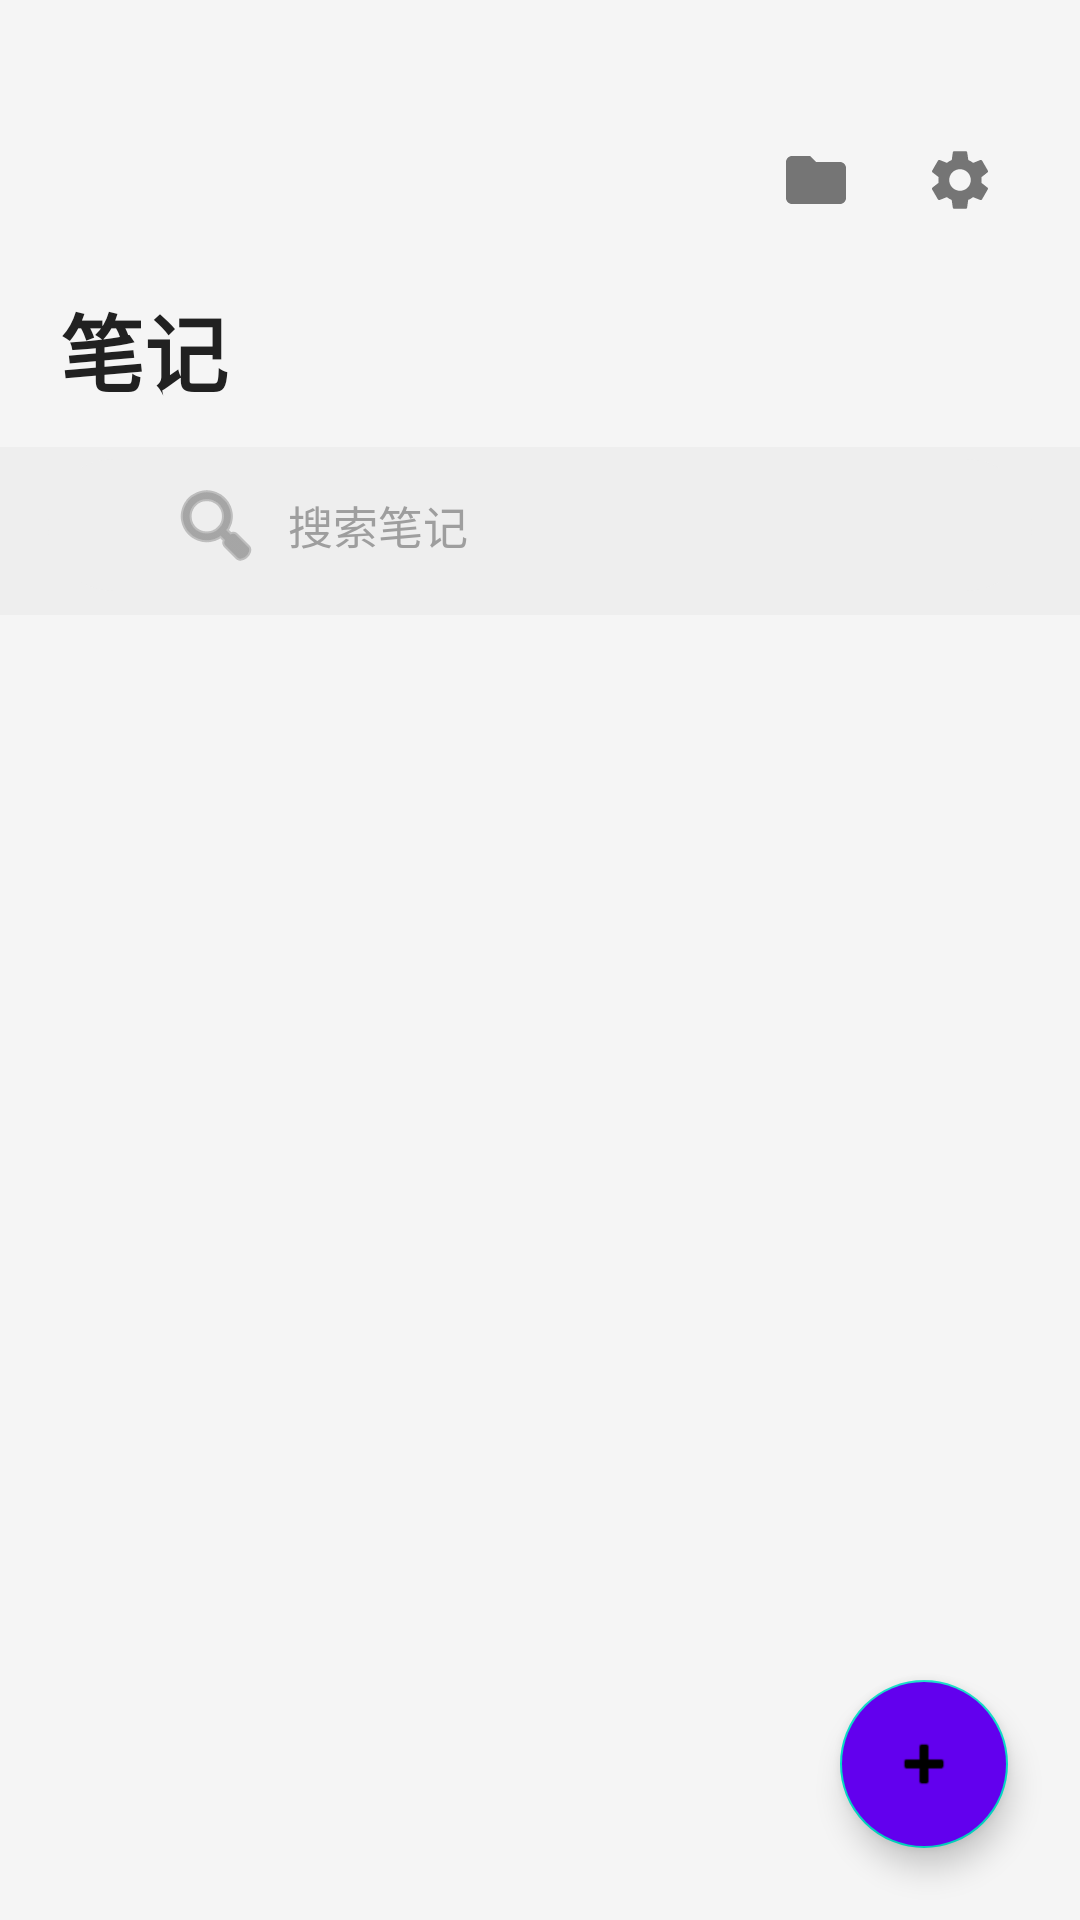

Icons on this 1080px x 1920px Android screen, each with the point to tap as (x,y):
settings: (960,180)
添加笔记: (924,1764)
